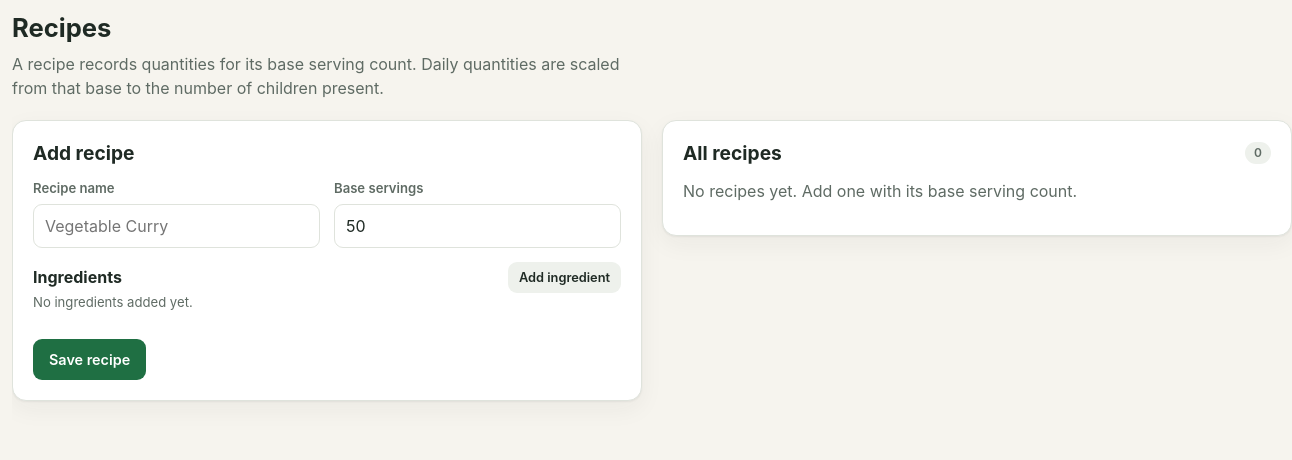
Scenario: Recipes screen › rejects a base serving count of zero
The image size is (1292, 460).
Expected: the text "No recipes yet. Add one with its base serving count." is shown, [683,181,1077,201]
Type "Test Curry" into the field labelled "Recipe name" at {"x": 176, "y": 226}, box [33,204,320,248]
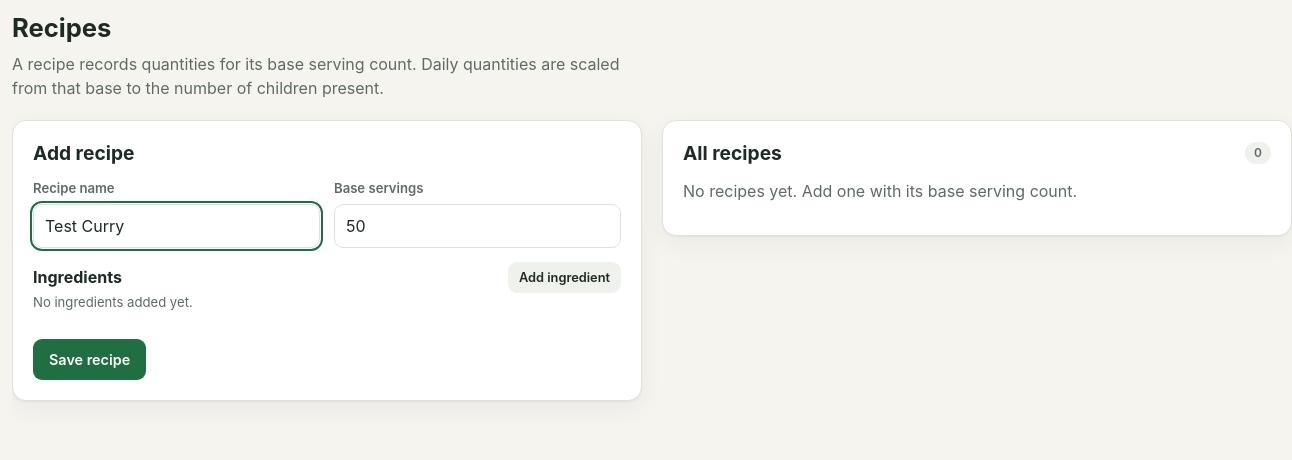
Replace the text in the number field labelled "Base servings" with "0" at {"x": 478, "y": 226}, box [334,204,621,248]
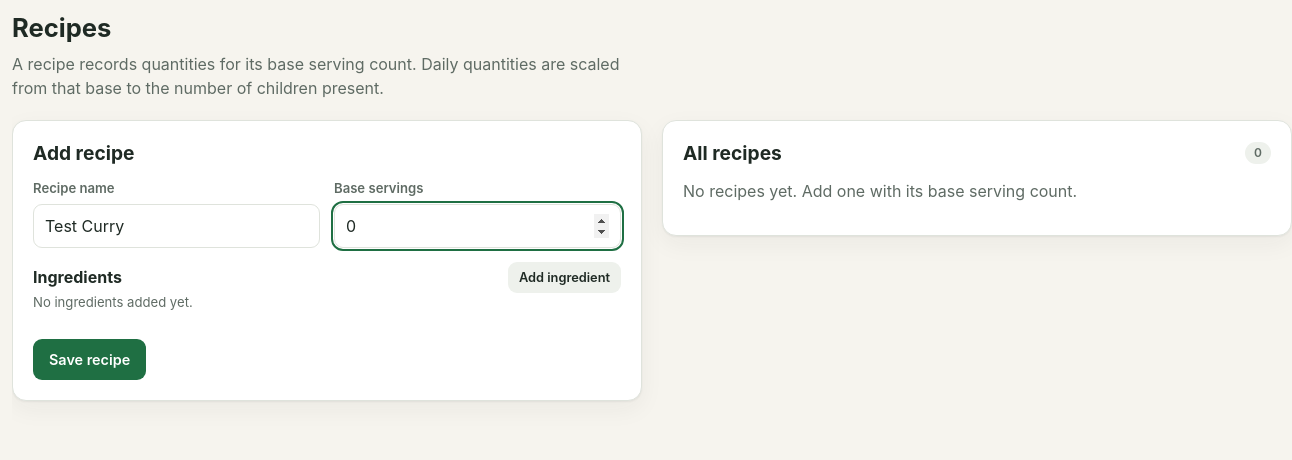
Click the button "Save recipe" at {"x": 90, "y": 359}, box [33,338,146,380]
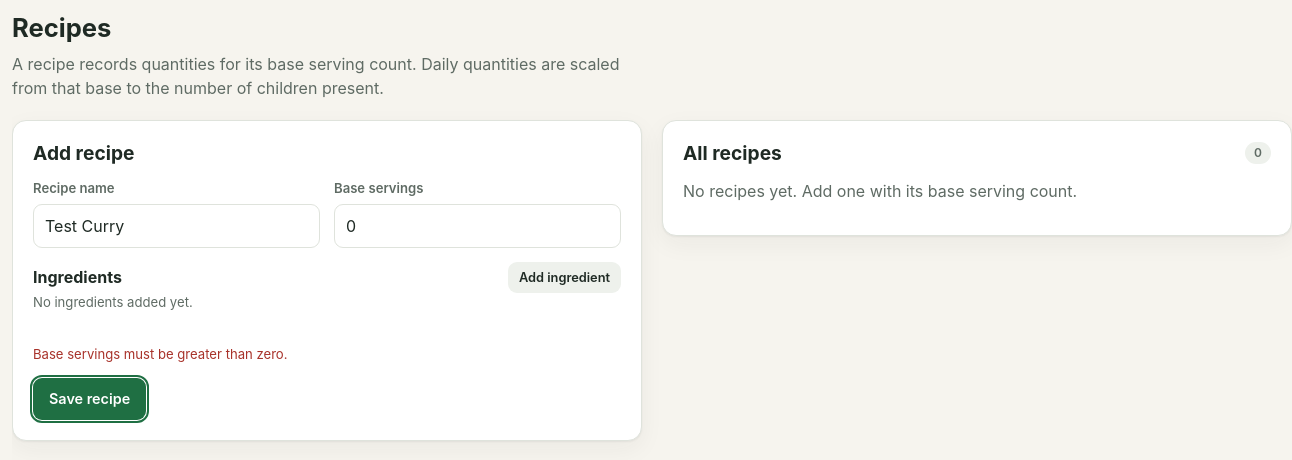
Expected: the text "Base servings must be greater than zero." is shown, [33,346,288,362]
